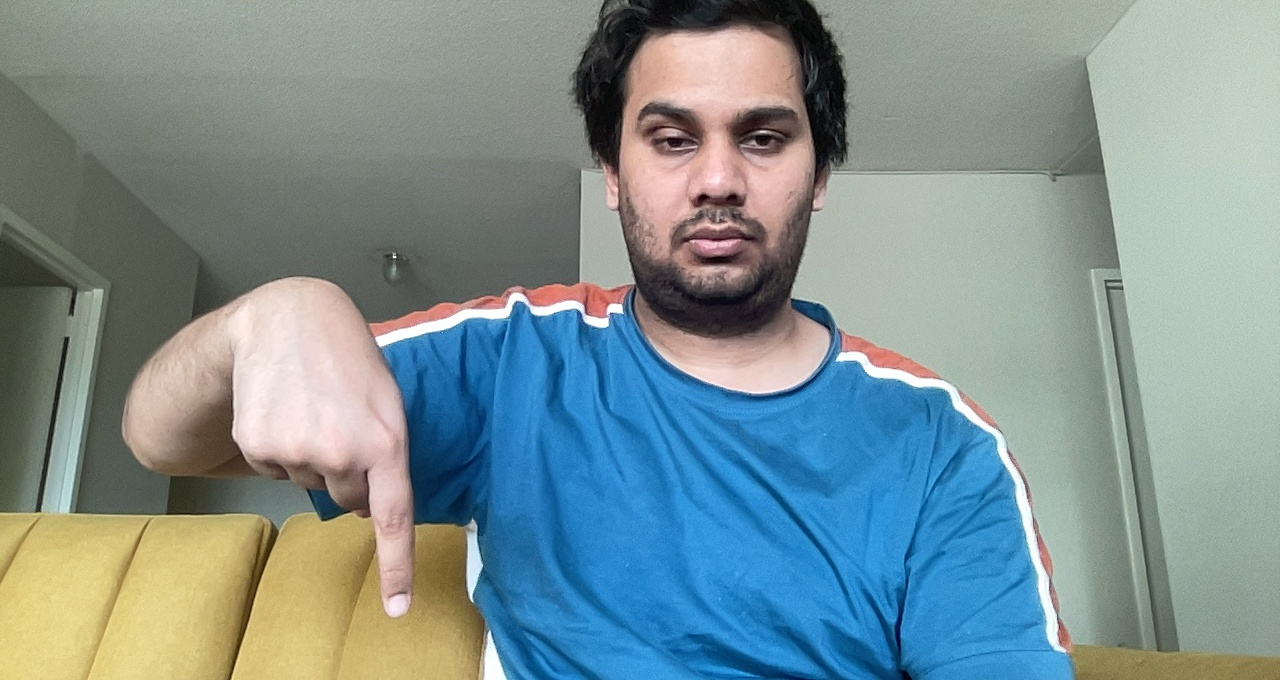fingerdown: (212, 267, 424, 626)
